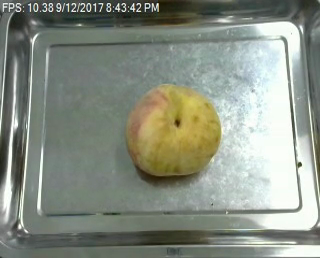Peach: (126, 84, 221, 177)
